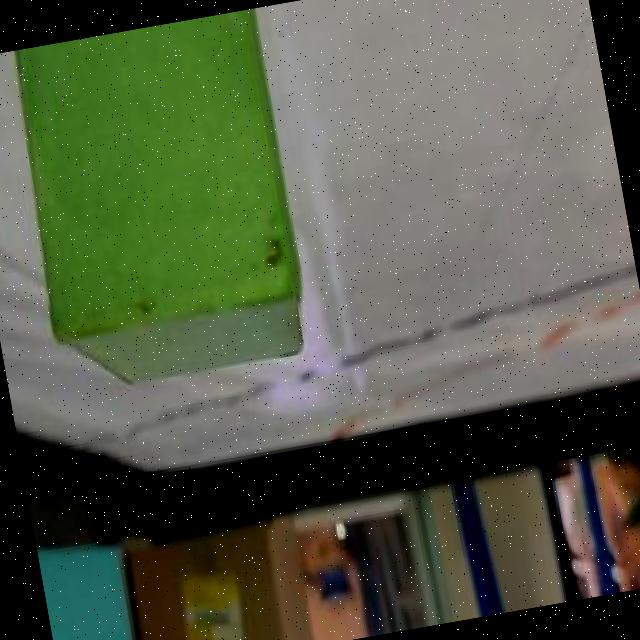greenbox: (0, 5, 322, 404)
